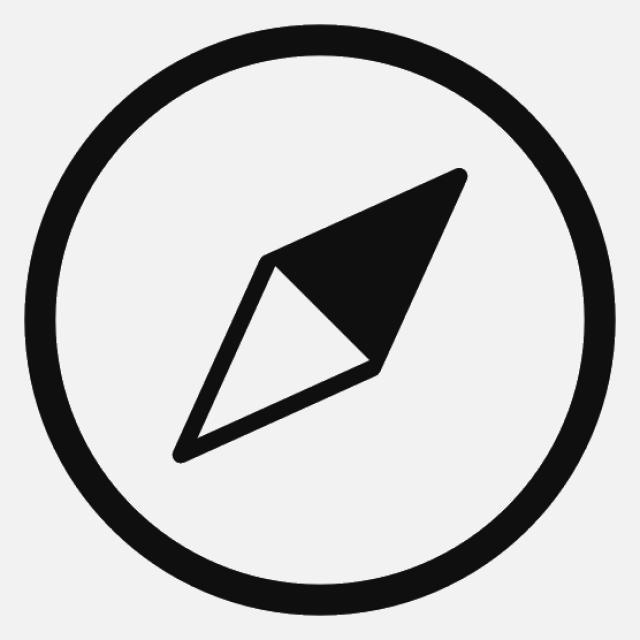compass: (15, 19, 628, 633)
